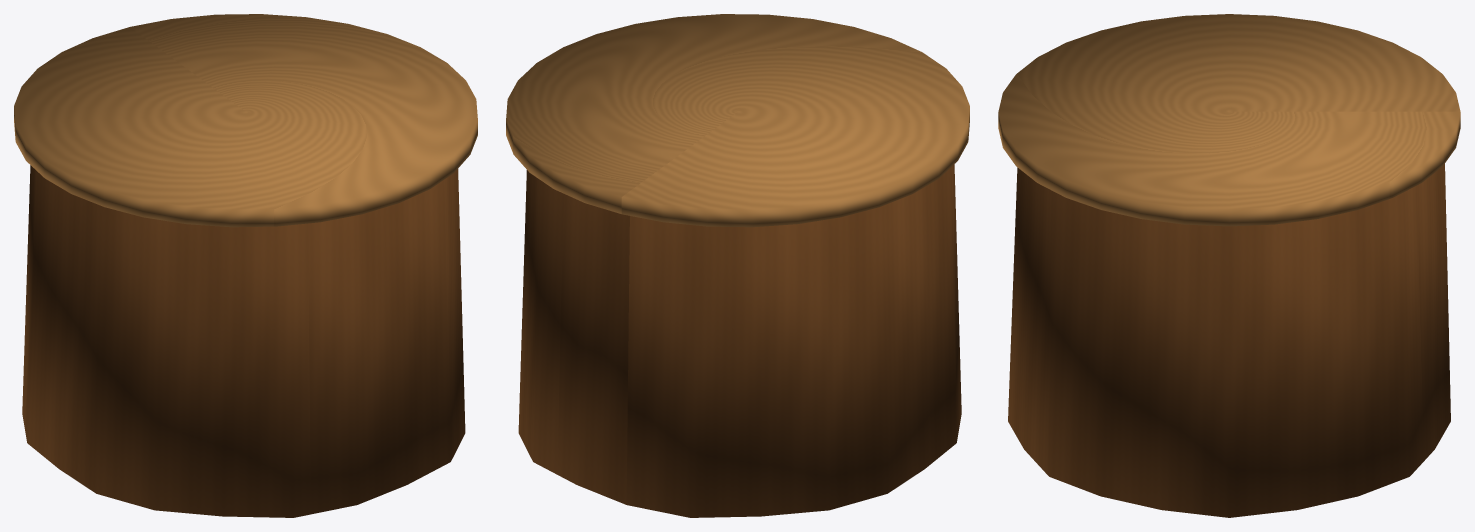
The model's file is yokocho-entry-stump-table.glb.
3 views of the same model, side by side, from view 1: azimuth 30°, elevation 25°; view 2: azimuth 150°, elevation 25°; view 3: azimuth 270°, elevation 25° (orthographic).
Parts seen in each view (by area): view 1: EntryPlaza/StumpTable__EntryBark, EntryPlaza/StumpTableTop__EntryEndgrain; view 2: EntryPlaza/StumpTable__EntryBark, EntryPlaza/StumpTableTop__EntryEndgrain; view 3: EntryPlaza/StumpTable__EntryBark, EntryPlaza/StumpTableTop__EntryEndgrain.
Boxes of the visible parts, left/top/right/bottom form: EntryPlaza/StumpTable__EntryBark: left=22, top=165, right=465, bottom=517; EntryPlaza/StumpTableTop__EntryEndgrain: left=14, top=14, right=477, bottom=227; EntryPlaza/StumpTable__EntryBark: left=518, top=164, right=961, bottom=517; EntryPlaza/StumpTableTop__EntryEndgrain: left=506, top=14, right=969, bottom=227; EntryPlaza/StumpTable__EntryBark: left=1008, top=164, right=1450, bottom=517; EntryPlaza/StumpTableTop__EntryEndgrain: left=998, top=14, right=1460, bottom=226.
Size of the model in its own units: 0.73 by 0.542 by 0.73.
Materials: 2 (2 with a texture image).
